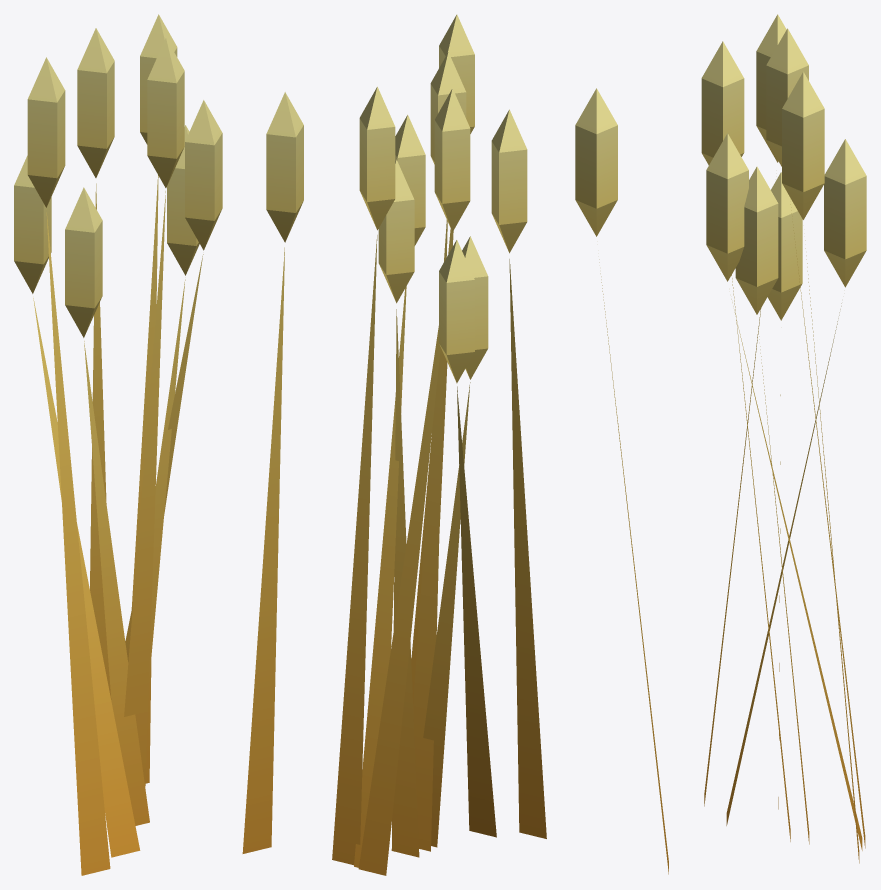
Rendered from wheat.glb.
3 renders of one model, left to right at view 1: azimuth 30°, elevation 25°; view 2: azimuth 150°, elevation 25°; view 3: azimuth 270°, elevation 25°, orthographic. The views are drawn at different scales.
Visible parts, largest first — view 1: wheat; view 2: wheat; view 3: wheat.
Boxes of the visible parts, x1,y1,x2,y2 form: wheat: (14, 14, 303, 875); wheat: (332, 14, 546, 875); wheat: (575, 14, 866, 874).
Size of the model in its own units: 0.2613 by 1.07 by 0.3544.
Materials: 1 (1 with a texture image).
